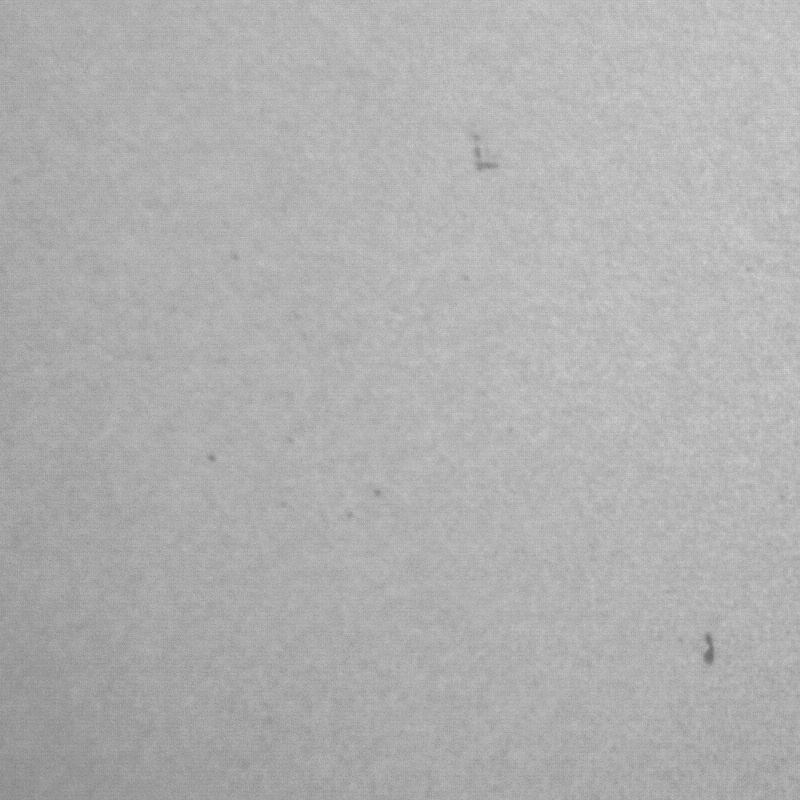defect: (336, 478, 405, 532), (469, 133, 502, 173), (700, 624, 724, 674), (202, 444, 228, 471)
